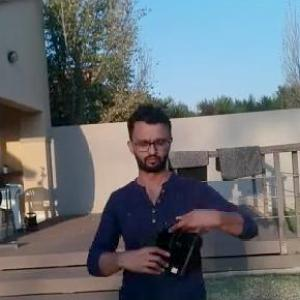follow: (83, 97, 265, 299)
